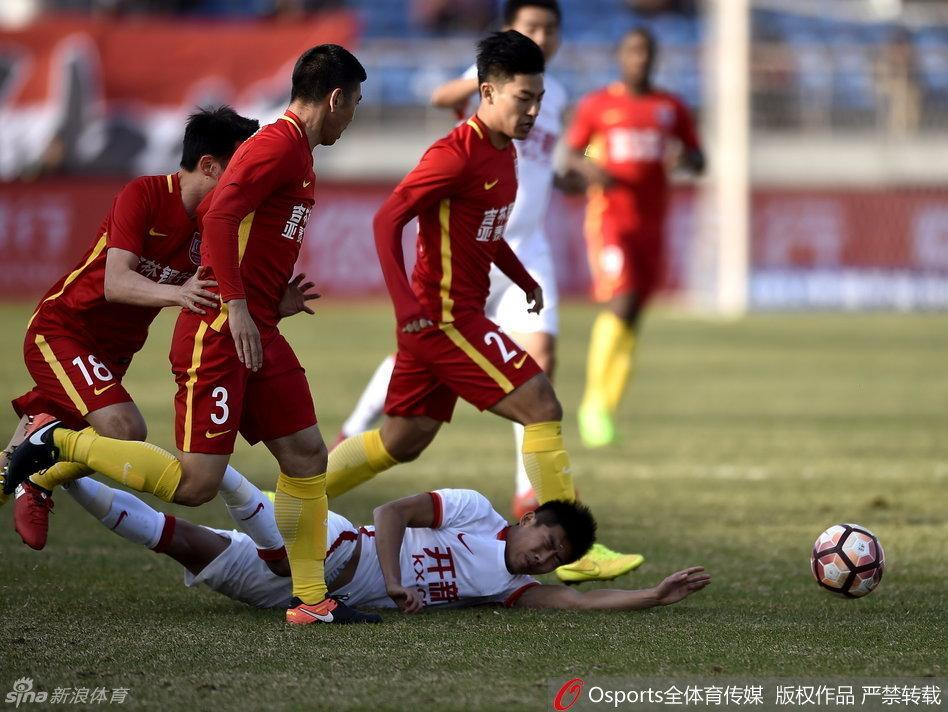bending: (4, 96, 265, 551)
down: (9, 398, 720, 625)
up: (159, 34, 364, 639), (367, 37, 553, 515), (553, 24, 709, 444)
